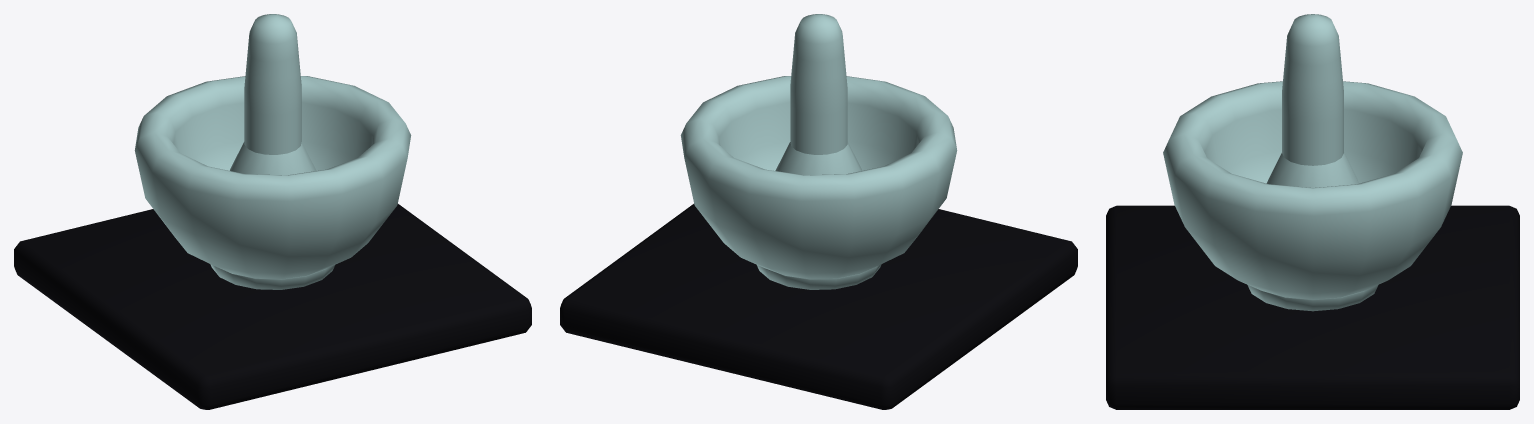
Rendered from LastLuna_Model_Station_Grinder.fbx.
3 views of the same model, side by side, from view 1: azimuth 30°, elevation 25°; view 2: azimuth 150°, elevation 25°; view 3: azimuth 270°, elevation 25° (orthographic). The views are drawn at different scales.
Parts seen in each view (by area): view 1: Stand_Base_Small001, Mortar001, Pestle001; view 2: Stand_Base_Small001, Mortar001, Pestle001; view 3: Stand_Base_Small001, Mortar001, Pestle001.
Part boxes in pixels (box(x1,y1,x2,y2)): Stand_Base_Small001: box(14, 204, 531, 409); Mortar001: box(134, 76, 411, 289); Pestle001: box(230, 14, 316, 175); Stand_Base_Small001: box(560, 204, 1077, 409); Mortar001: box(680, 76, 957, 289); Pestle001: box(775, 14, 861, 175); Stand_Base_Small001: box(1106, 205, 1519, 409); Mortar001: box(1163, 81, 1462, 311); Pestle001: box(1266, 14, 1359, 187).
Size of the model in its own units: 39.37 by 32.52 by 39.37.
